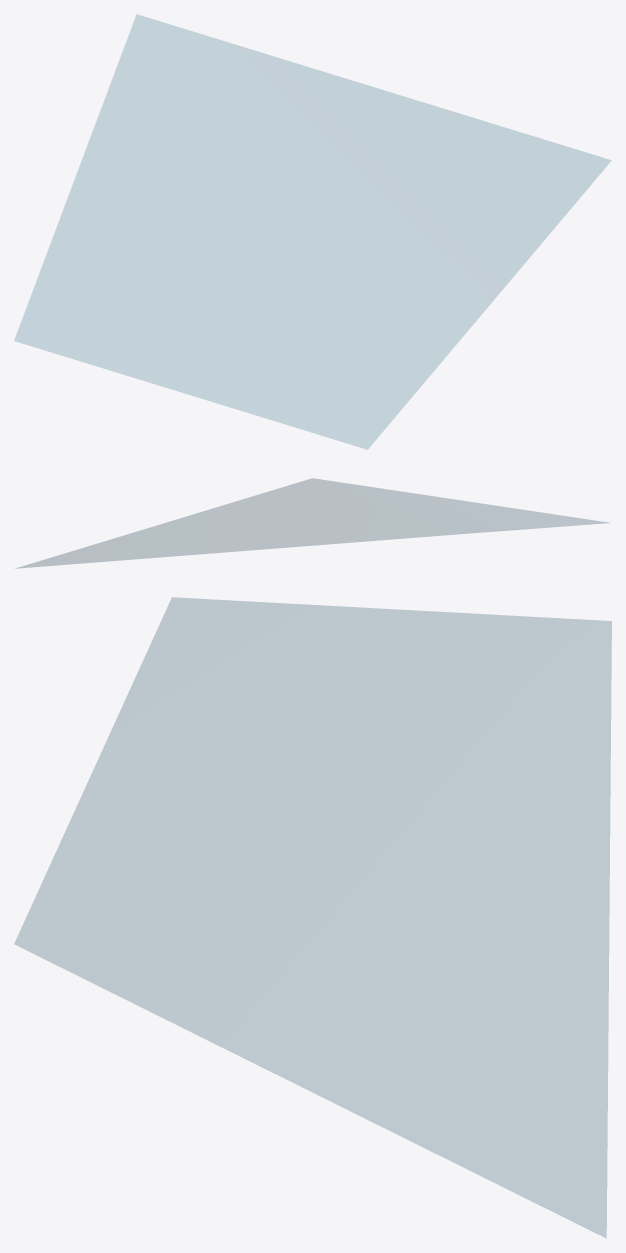
File: Bridge_Glass_01.fbx
3 views of the same model, one above another, from view 1: azimuth 30°, elevation 25°; view 2: azimuth 150°, elevation 25°; view 3: azimuth 270°, elevation 25° (orthographic). The views are drawn at different scales.
Parts seen in each view (by area): view 1: Bridge; view 2: Bridge; view 3: Bridge.
Part boxes in pixels (left/top/right/bottom): Bridge: left=14, top=14, right=611, bottom=449; Bridge: left=16, top=478, right=608, bottom=568; Bridge: left=14, top=597, right=611, bottom=1237.
Bounding box in the file's own units: 3021 × 974 × 1614.
